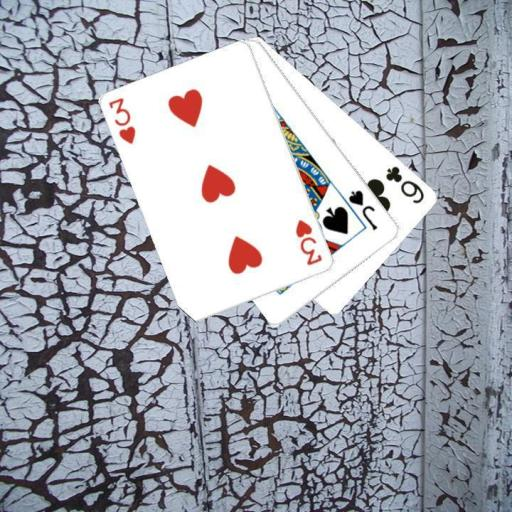card-corner: (382, 162, 426, 206), (292, 216, 324, 268), (106, 94, 138, 146), (346, 186, 380, 232)
